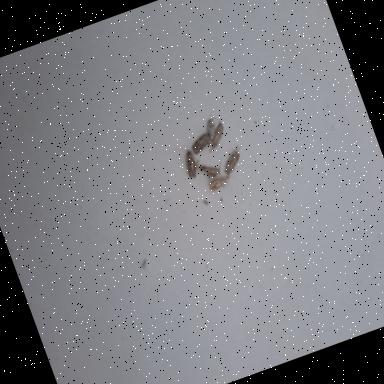pbw: (199, 114, 231, 154), (217, 143, 249, 178), (180, 146, 204, 180), (200, 158, 229, 185), (188, 132, 216, 156), (208, 174, 237, 192)
